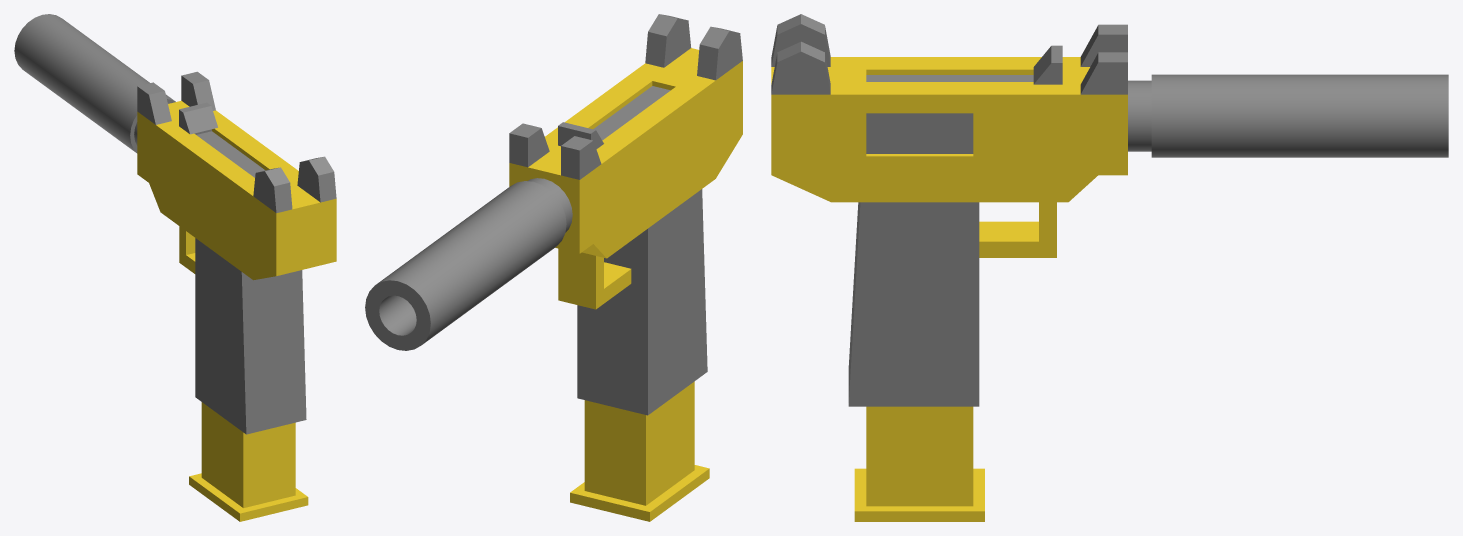
File: uziSilencerGold.gltf
3 views of the same model, side by side, from view 1: azimuth 30°, elevation 25°; view 2: azimuth 150°, elevation 25°; view 3: azimuth 270°, elevation 25° (orthographic). The views are drawn at different scales.
Visible parts, largest first — view 1: Group (×4); view 2: Group (×4); view 3: Group (×4).
Part boxes in pixels (x1=…): Group (×4): x1=14, y1=14, x2=336, y2=521; Group (×4): x1=365, y1=14, x2=742, y2=521; Group (×4): x1=771, y1=14, x2=1448, y2=521.
Size of the model in its own units: 0.0651 by 0.333 by 0.4368.
